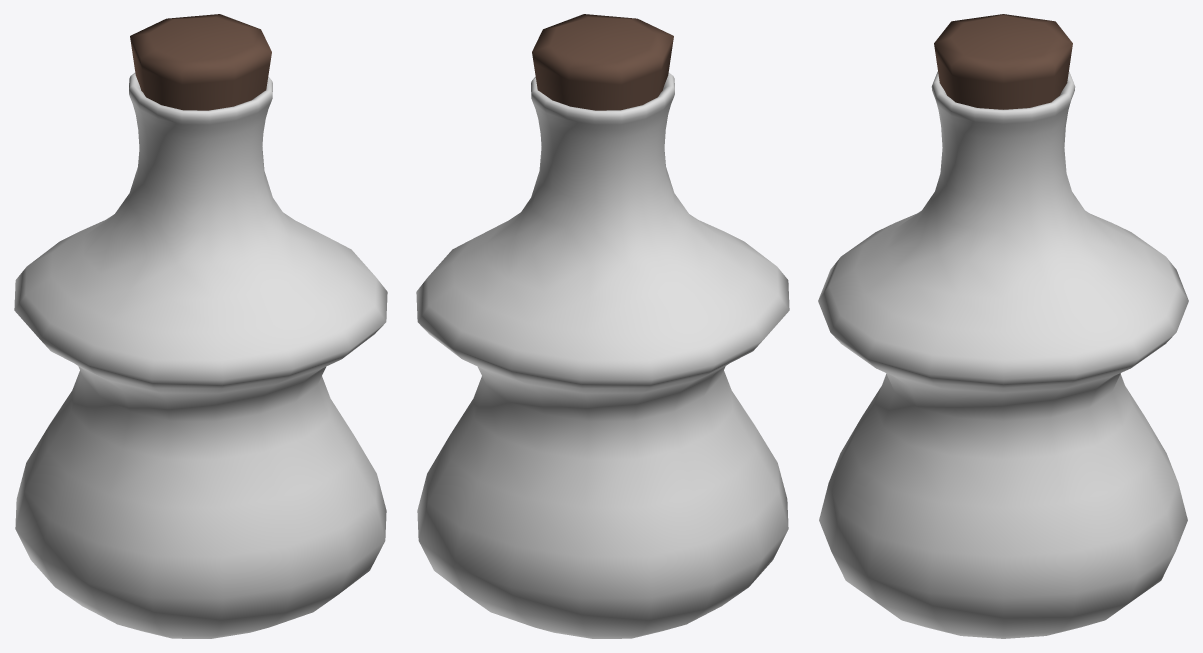
Rendered from SM_Potion5_Filled.fbx.
3 renders of one model, left to right at view 1: azimuth 30°, elevation 25°; view 2: azimuth 150°, elevation 25°; view 3: azimuth 270°, elevation 25°, orthographic.
Parts seen in each view (by area): view 1: SM_Potion5_Filled; view 2: SM_Potion5_Filled; view 3: SM_Potion5_Filled.
Part boxes in pixels (x1=…): SM_Potion5_Filled: x1=14, y1=14, x2=387, y2=638; SM_Potion5_Filled: x1=416, y1=14, x2=789, y2=638; SM_Potion5_Filled: x1=818, y1=14, x2=1188, y2=638.
Size of the model in its own units: 70.81 by 123 by 70.81.
